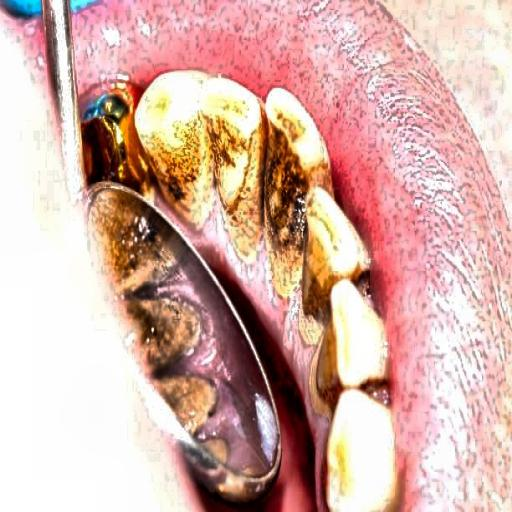Calculus: (118, 83, 353, 366)
